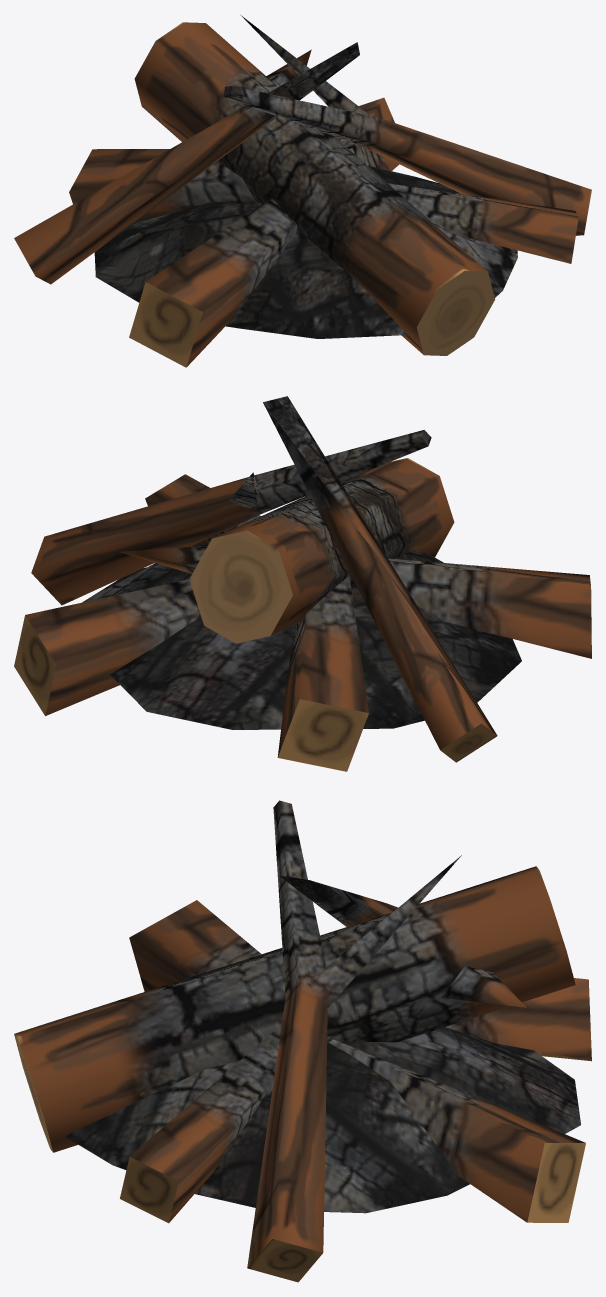
File: campfire_B.fbx
3 renders of one model, top to bottom at view 1: azimuth 30°, elevation 25°; view 2: azimuth 150°, elevation 25°; view 3: azimuth 270°, elevation 25°, orthographic. The views are drawn at different scales.
Parts seen in each view (by area): view 1: campfire_B; view 2: campfire_B; view 3: campfire_B.
Boxes of the visible parts, x1,y1,x2,y2 form: campfire_B: (14, 15, 591, 367); campfire_B: (14, 396, 591, 771); campfire_B: (14, 800, 591, 1282).
Bounding box in the file's own units: 65.18 × 30.27 × 54.82.
